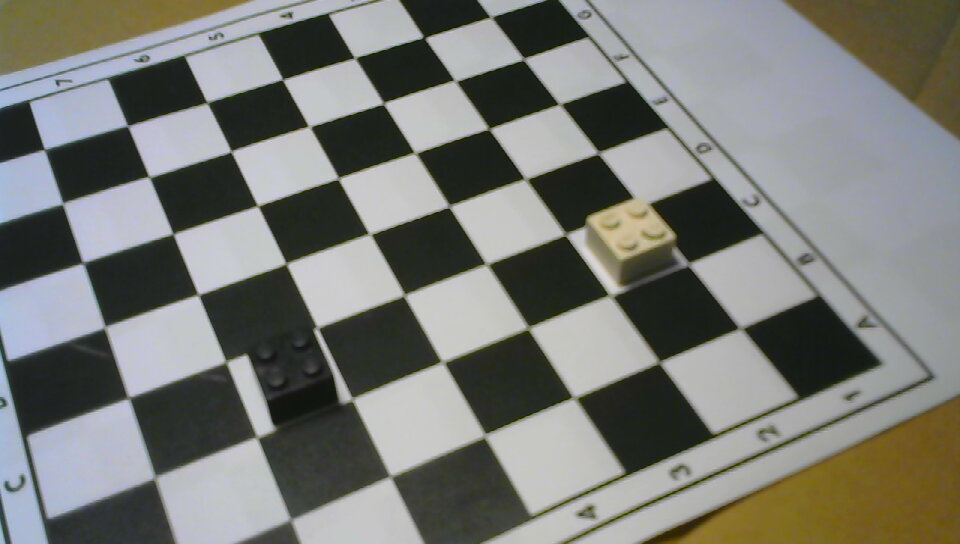bp: (249, 327, 337, 424)
wp: (585, 198, 677, 286)
